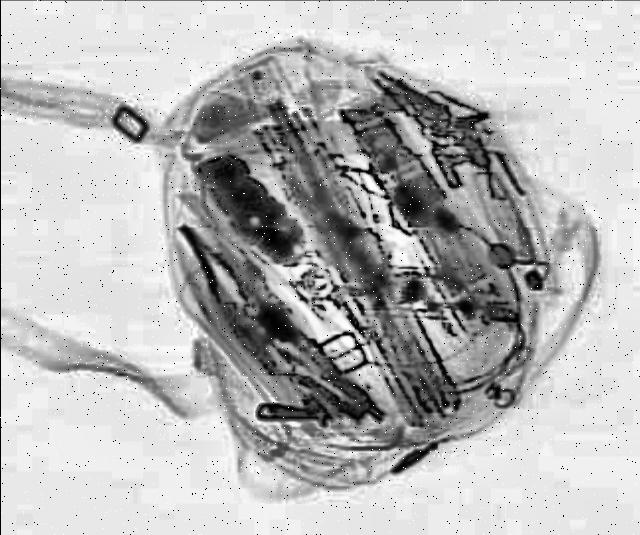Pliers: (160, 221, 250, 313)
